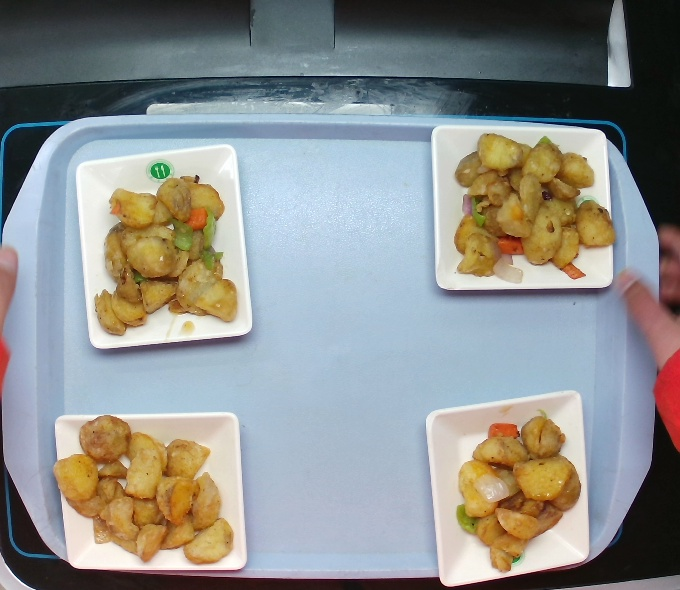wcq-TuDouZai: (52, 401, 239, 579), (448, 133, 613, 285), (93, 177, 235, 338), (449, 401, 581, 571)
